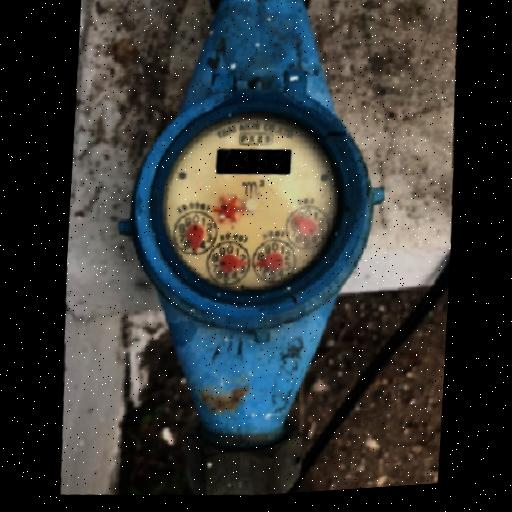2: (271, 149, 293, 175)
3: (235, 149, 255, 175)
5: (254, 149, 272, 174)
7: (217, 148, 237, 175)
border_water_meter_number: (215, 144, 293, 180)
